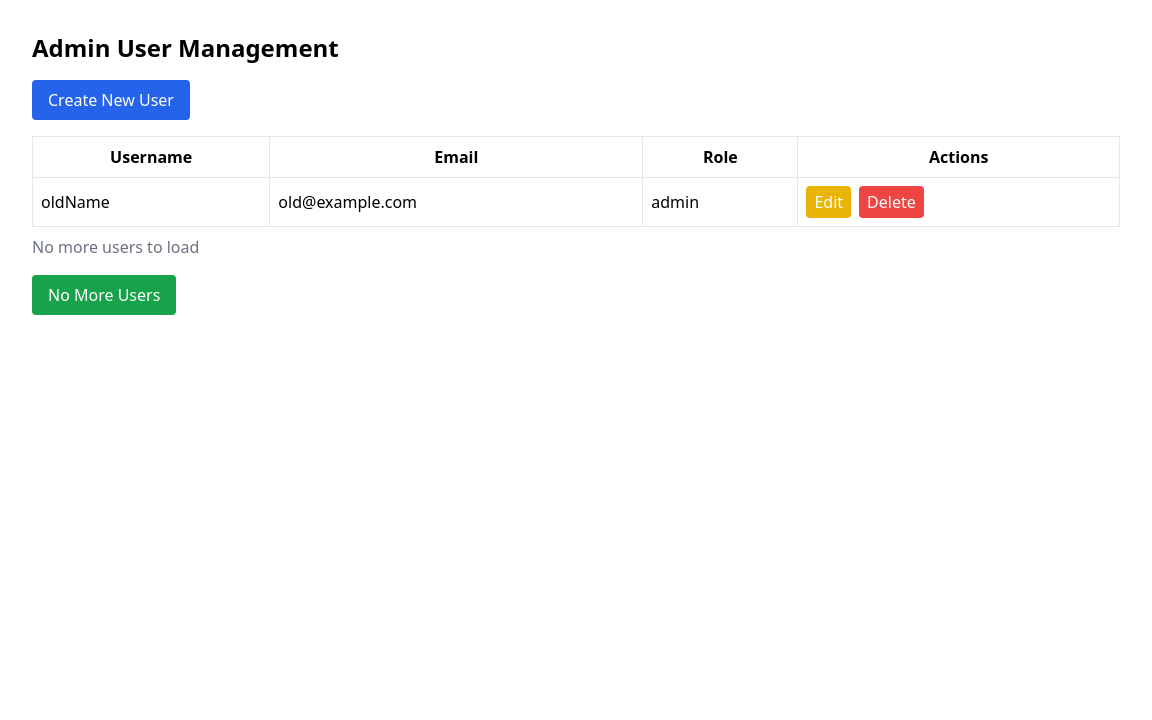
Test: AdminUserManagement Component › edits an existing user (with list re-fetch)
The image size is (1152, 720).
expect the text "oldName" is shown: met, box [32, 178, 270, 226]
// Click "Edit"
Click the button "Edit" at (829, 202), box [806, 186, 851, 218]
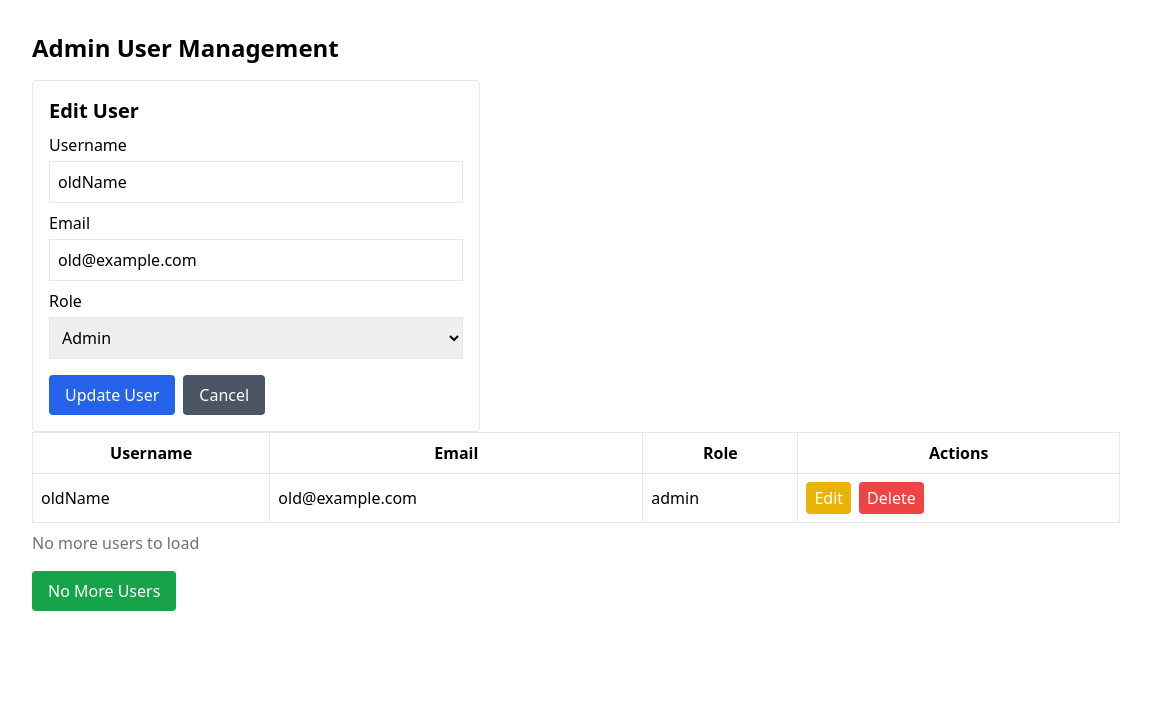
// Update form fields.
Replace the text in the field labelled "Username" with "updatedName" at (256, 182), box [49, 161, 463, 203]
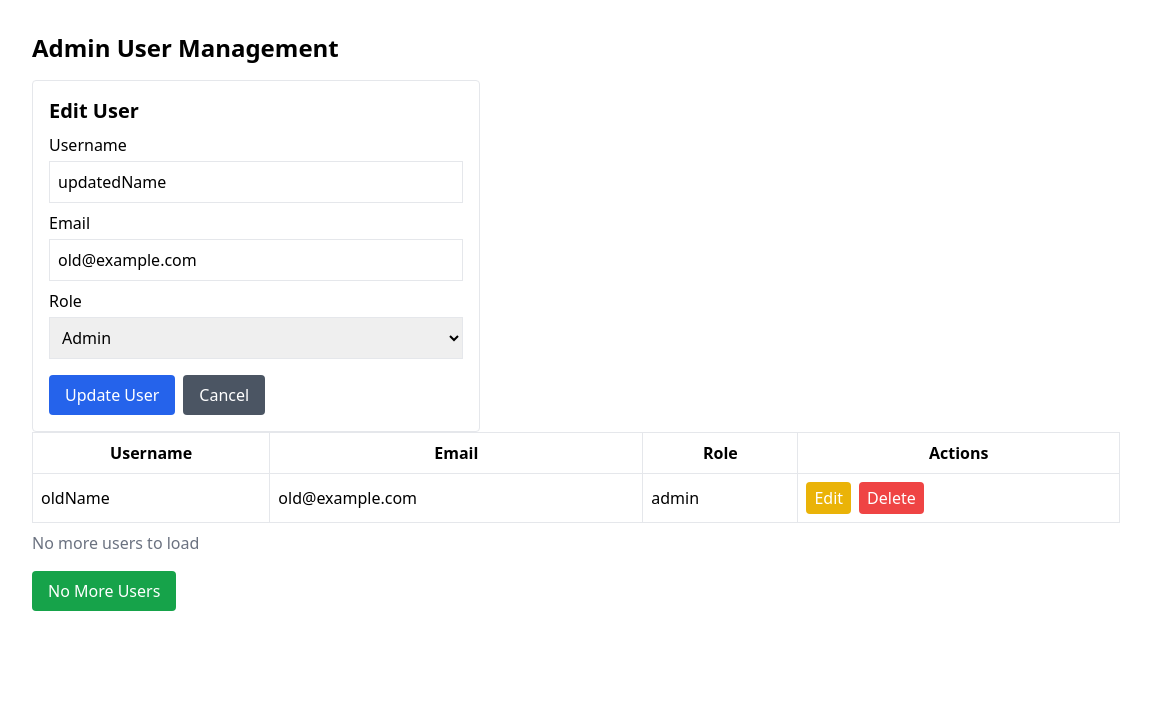
Replace the text in the field labelled "Email" with "updated@example.com" at (256, 260), box [49, 239, 463, 281]
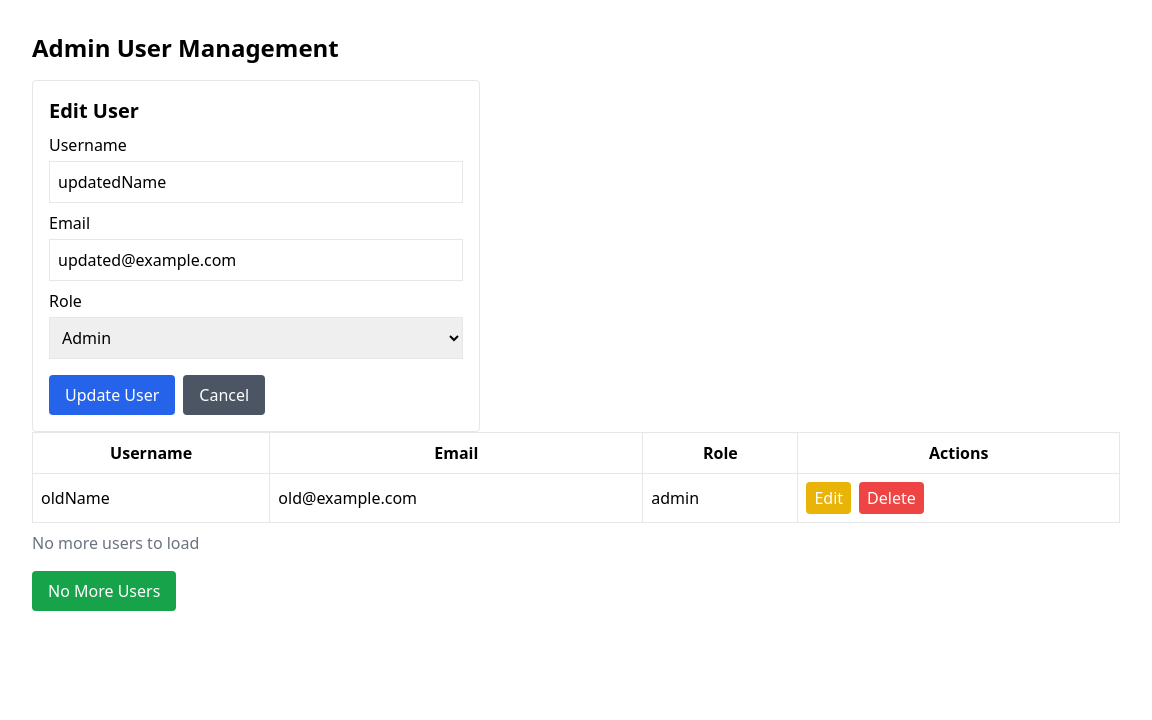
// Click "Update User"
Click the button "Update User" at (112, 395), box [49, 375, 175, 415]
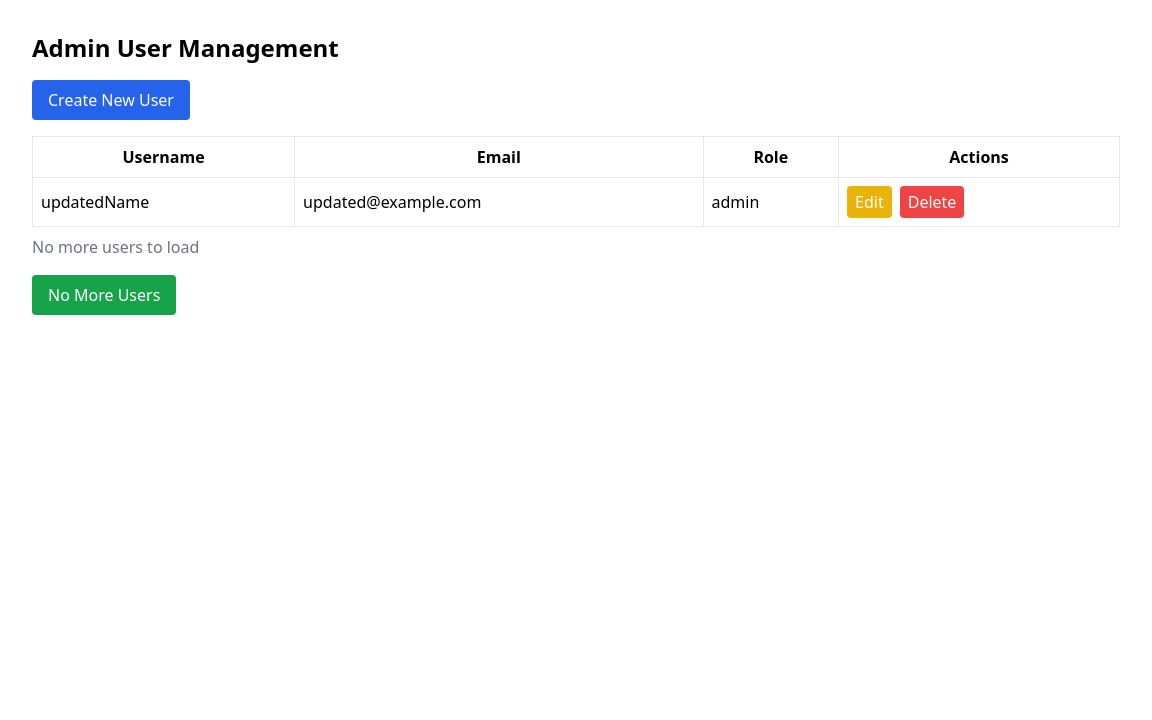
expect the text "updatedName" is shown: met, box [32, 178, 295, 226]
expect the text "oldName" is gone: met
